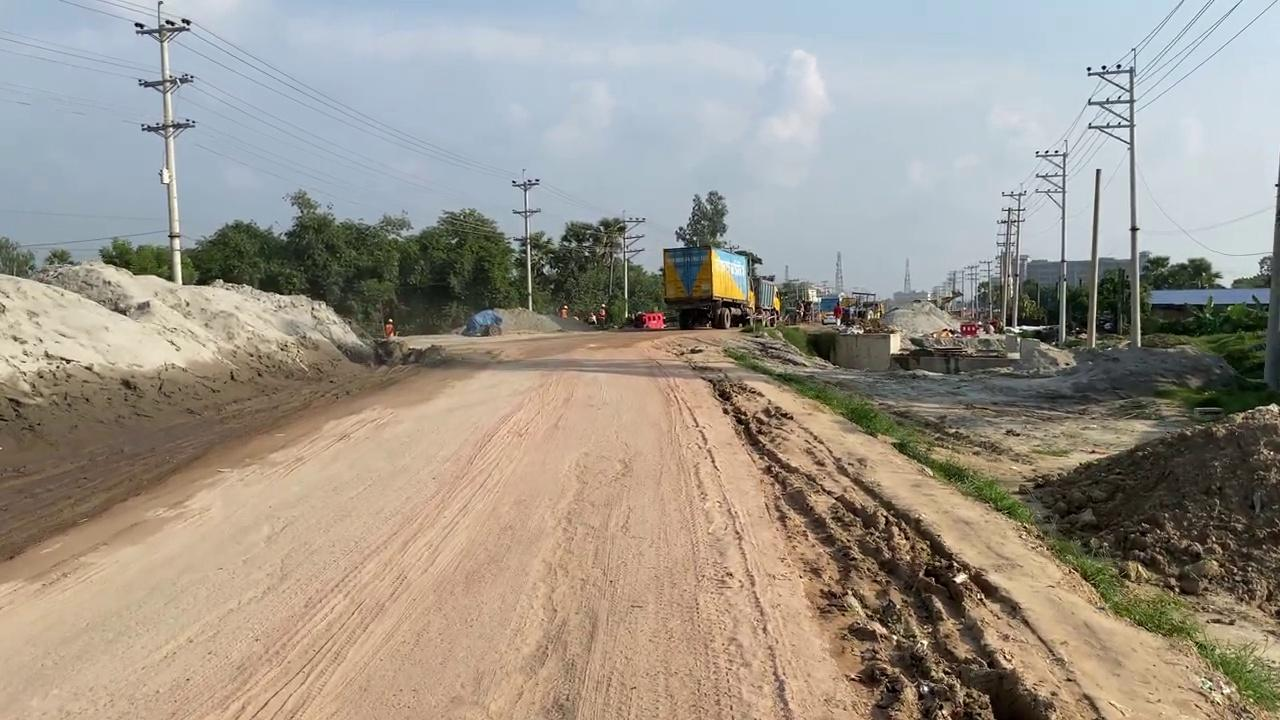Muddy road: (0, 322, 1253, 717)
Obstacle: (892, 329, 1020, 373), (805, 327, 899, 370)
Pole: (133, 1, 196, 284), (1086, 168, 1100, 348)
Rickshaw: (683, 334, 1262, 718)
Traffic-sign: (674, 189, 729, 248)
Tree: (660, 245, 762, 329), (557, 301, 667, 330), (843, 291, 884, 325)
